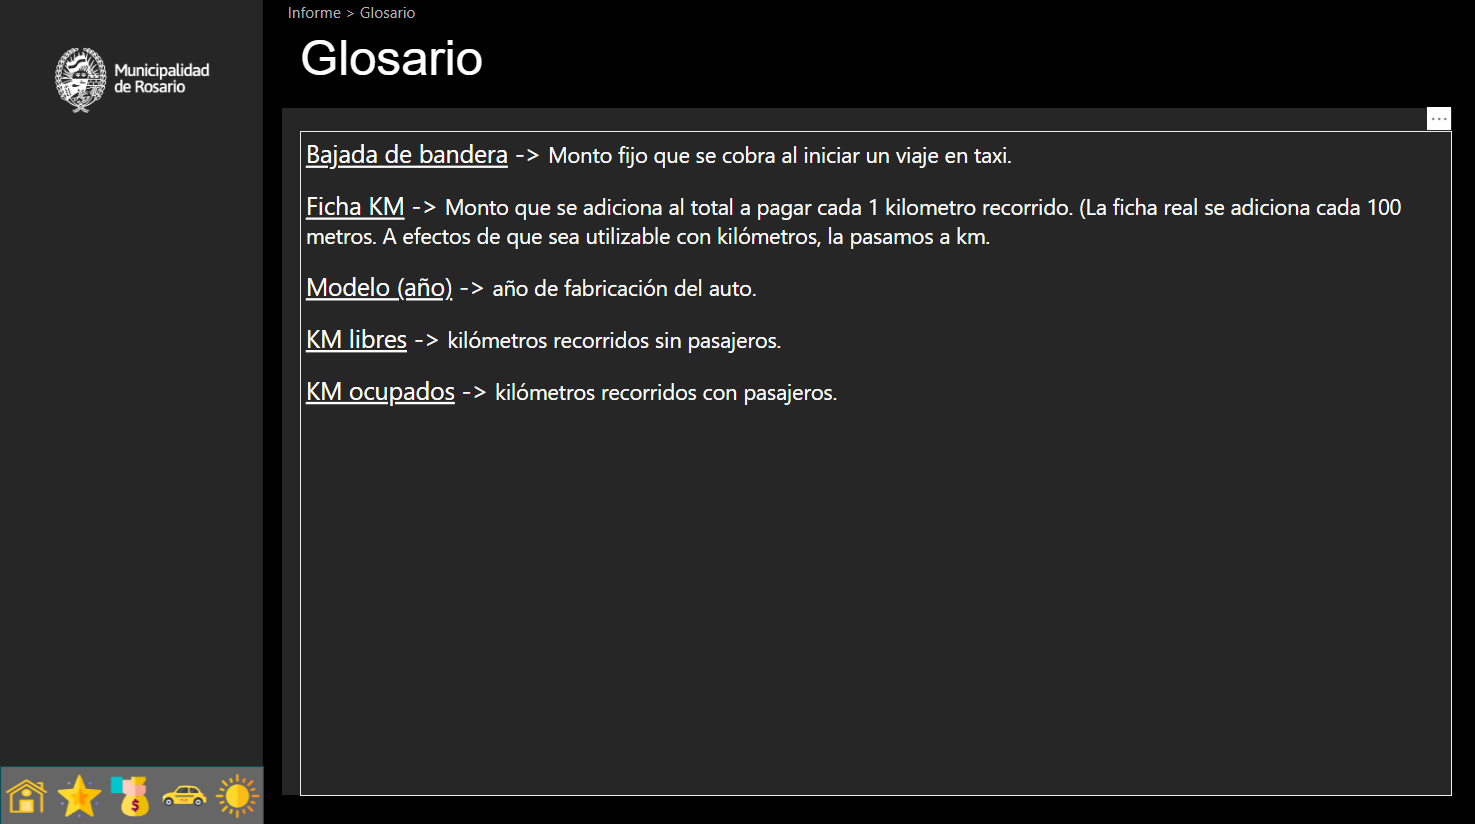

The page's visual inventory and layout, read from the dashboard file:
{"tool":"powerbi","page":{"name":"Glosario","canvas":[1280,720],"ordinal":6},"visuals":[{"type":"shape","box":[0,668,229,52],"z":0},{"type":"shape","box":[0,0,228.5,667.5],"z":1000},{"type":"actionButton","title":"gfhgh","box":[0,668,46,52],"z":2000},{"type":"actionButton","box":[45.8,667.6,45.8,52.4],"z":3000},{"type":"actionButton","box":[137.5,667.6,45.8,52.4],"z":4000},{"type":"textbox","box":[245.8,24.6,188.4,61.4],"z":5000},{"type":"image","box":[0,0,229,145.7],"z":6000},{"type":"textbox","box":[244.6,0,154,37.1],"z":7000},{"type":"actionButton","box":[183.3,667.6,45.8,52.4],"z":18000},{"type":"shape","box":[244.4,97.4,1015.1,596.4],"z":19000},{"type":"textbox","box":[260.1,116.7,999.4,577.5],"z":20000},{"type":"actionButton","box":[90.3,667.6,45,52.4],"z":21000}]}

Visuals, with their boxes on the page's 1280x720 design canvas (x1, y1, x2, y2). These are canvas units, not pixel positions in the 1475x824 screenshot, which may show the page scaled, cropped or inside an application window:
shape: x1=0, y1=668, x2=229, y2=720
shape: x1=0, y1=0, x2=228, y2=668
"gfhgh" actionButton: x1=0, y1=668, x2=46, y2=720
actionButton: x1=46, y1=668, x2=92, y2=720
actionButton: x1=138, y1=668, x2=183, y2=720
textbox: x1=246, y1=25, x2=434, y2=86
image: x1=0, y1=0, x2=229, y2=146
textbox: x1=245, y1=0, x2=399, y2=37
actionButton: x1=183, y1=668, x2=229, y2=720
shape: x1=244, y1=97, x2=1260, y2=694
textbox: x1=260, y1=117, x2=1260, y2=694
actionButton: x1=90, y1=668, x2=135, y2=720
